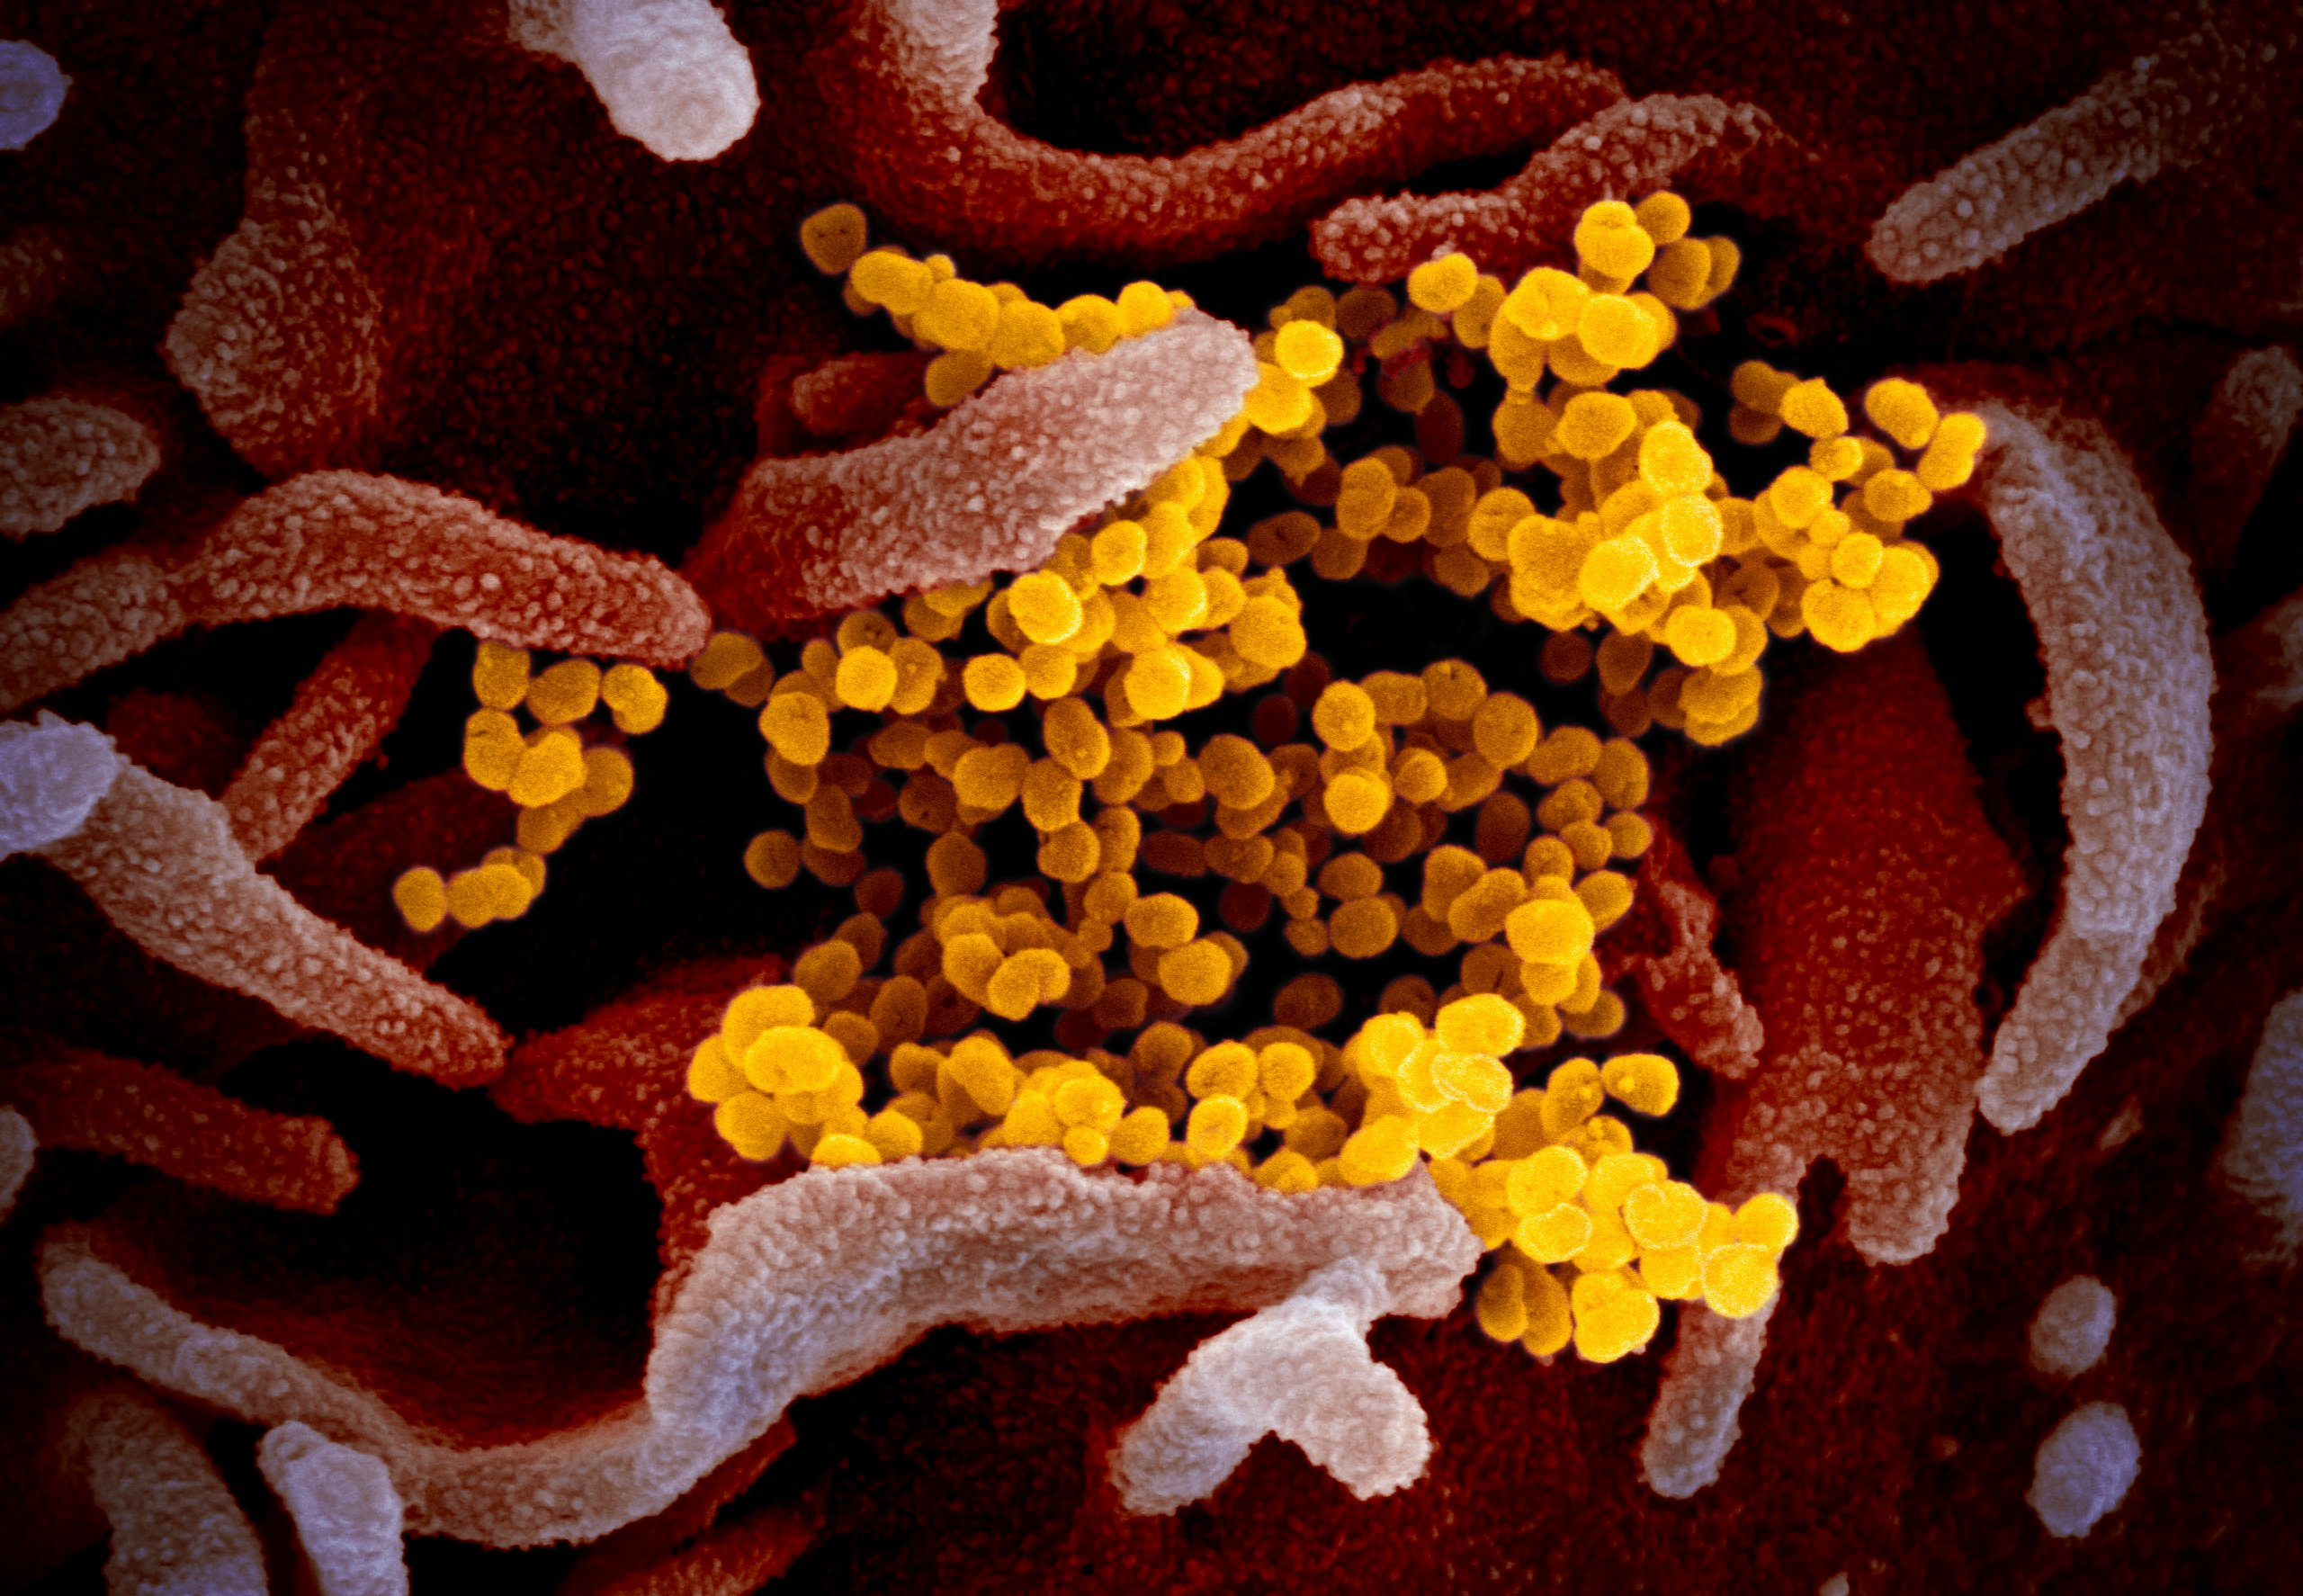COVID19: (668, 346, 1832, 1160)
